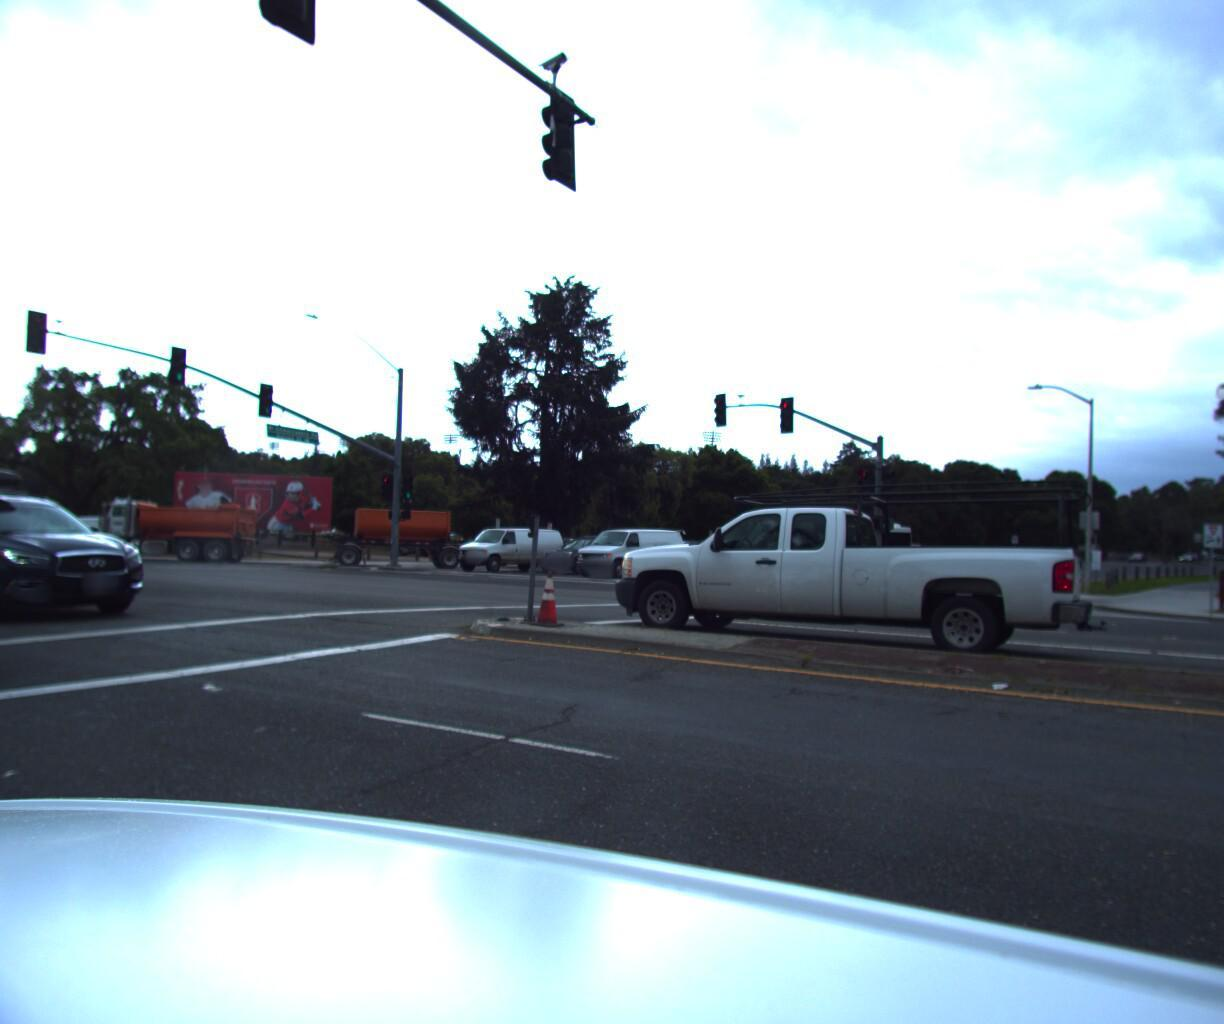car: (587, 475, 1108, 678), (0, 459, 175, 640), (566, 525, 690, 581), (448, 525, 568, 575), (0, 509, 25, 738), (528, 533, 641, 577)
other_vehicle: (807, 517, 916, 575)
truck: (57, 491, 319, 571), (320, 502, 476, 571)
